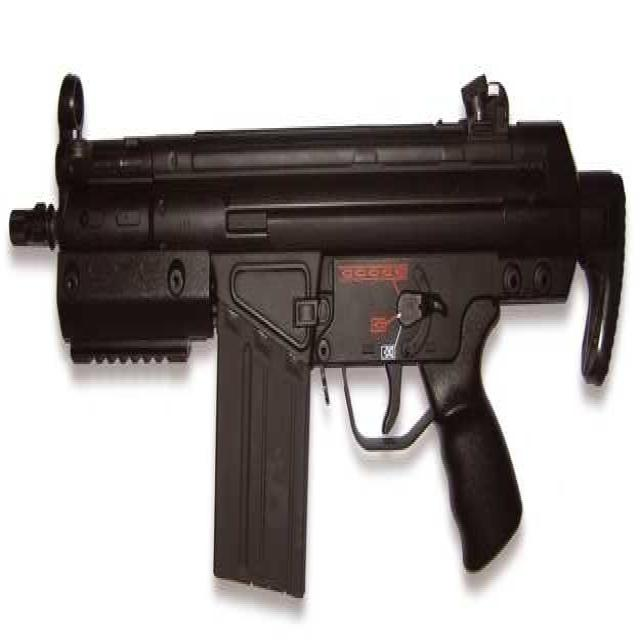heavyweapon: (9, 59, 624, 625)
